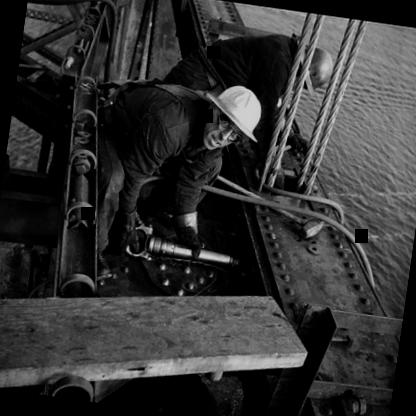helmet: (180, 67, 274, 176), (280, 38, 340, 96)
